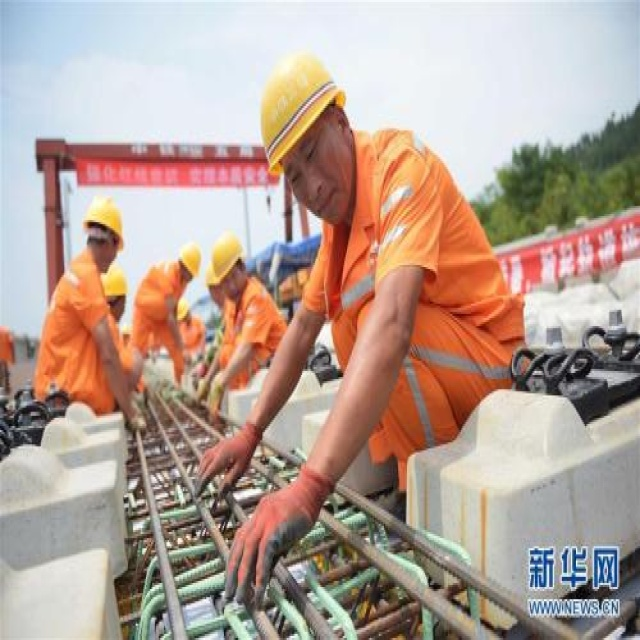Helmet: (245, 45, 366, 248), (74, 188, 129, 274), (204, 223, 258, 297), (166, 232, 211, 293)
Reflective vest: (307, 131, 533, 373), (29, 251, 117, 393), (132, 258, 180, 336)
